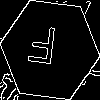F: (25, 25, 59, 74)
